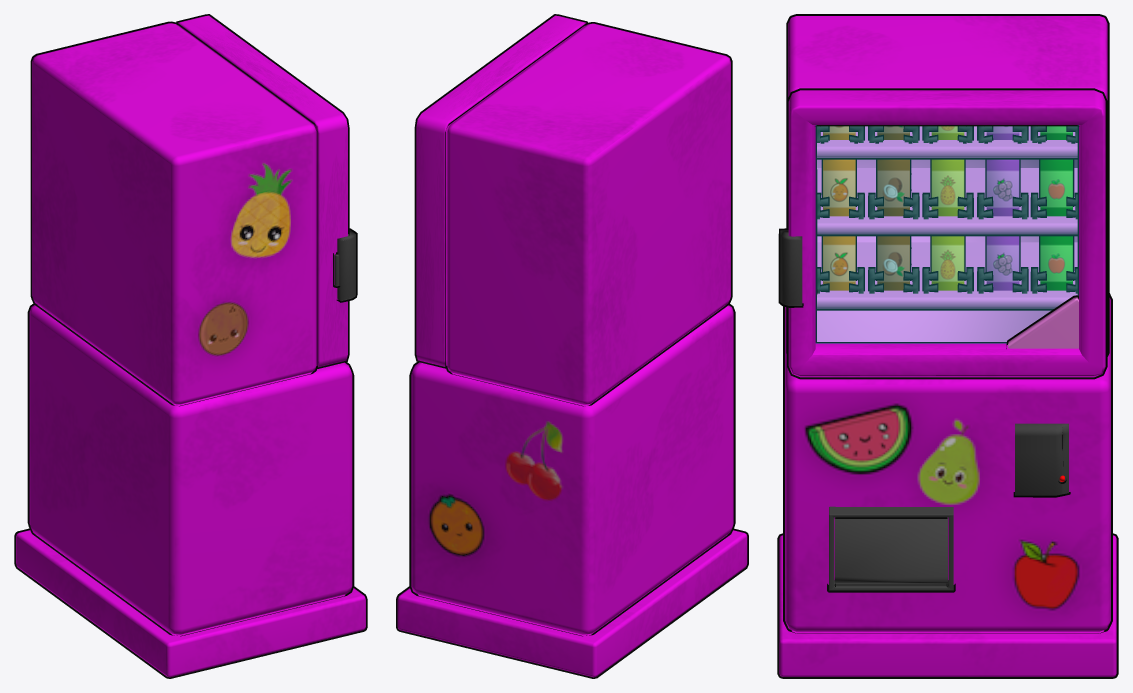
File: juice_vending_machine.glb
3 views of the same model, side by side, from view 1: azimuth 30°, elevation 25°; view 2: azimuth 150°, elevation 25°; view 3: azimuth 270°, elevation 25° (orthographic). The views are drawn at different scales.
Visible parts, largest first — view 1: Object_5, Object_4, Object_6; view 2: Object_5, Object_4; view 3: Object_5, Object_2, Object_6, Object_4, Object_3.
Boxes of the visible parts, <box> form: Object_5: <box>16,15,365,677</box>; Object_4: <box>14,14,367,678</box>; Object_6: <box>334,230,355,301</box>; Object_5: <box>397,15,747,677</box>; Object_4: <box>396,14,748,678</box>; Object_5: <box>779,16,1116,676</box>; Object_2: <box>816,125,1078,343</box>; Object_6: <box>780,126,1077,590</box>; Object_4: <box>777,14,1118,678</box>; Object_3: <box>823,126,1072,290</box>.
Bounding box in the file's own units: 3.15 × 7.43 × 4.05.
Materials: 5 (4 with a texture image).
